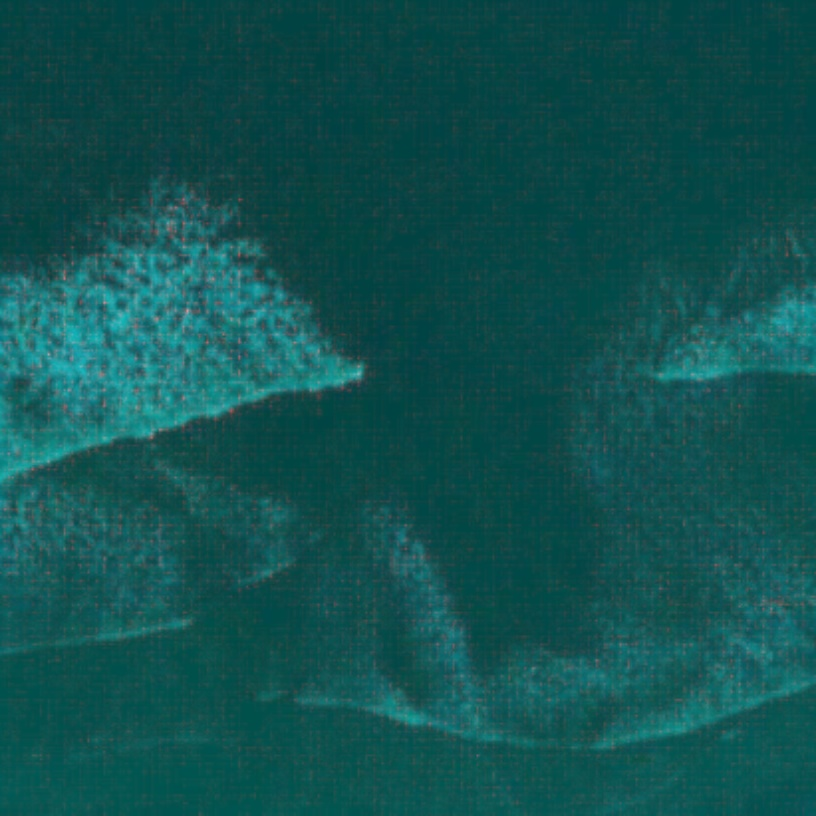rip_current: (231, 200, 713, 653)
